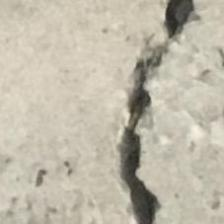Crack: (89, 0, 224, 224)
